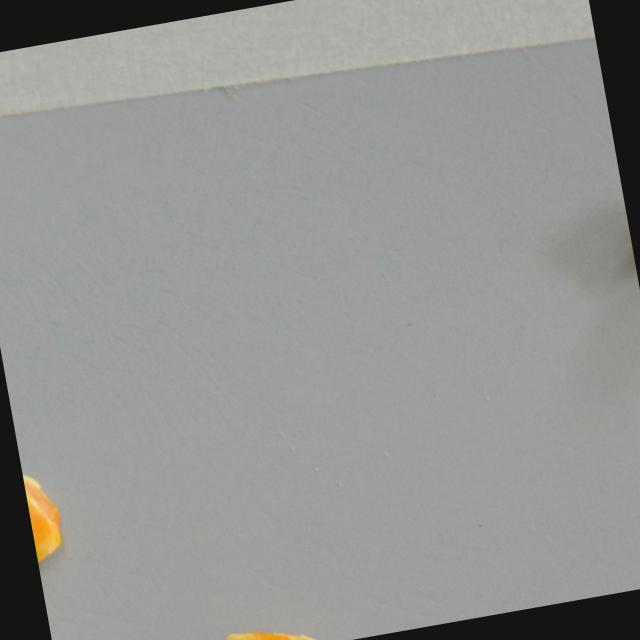pelicula: (21, 460, 71, 570), (211, 602, 319, 640)
